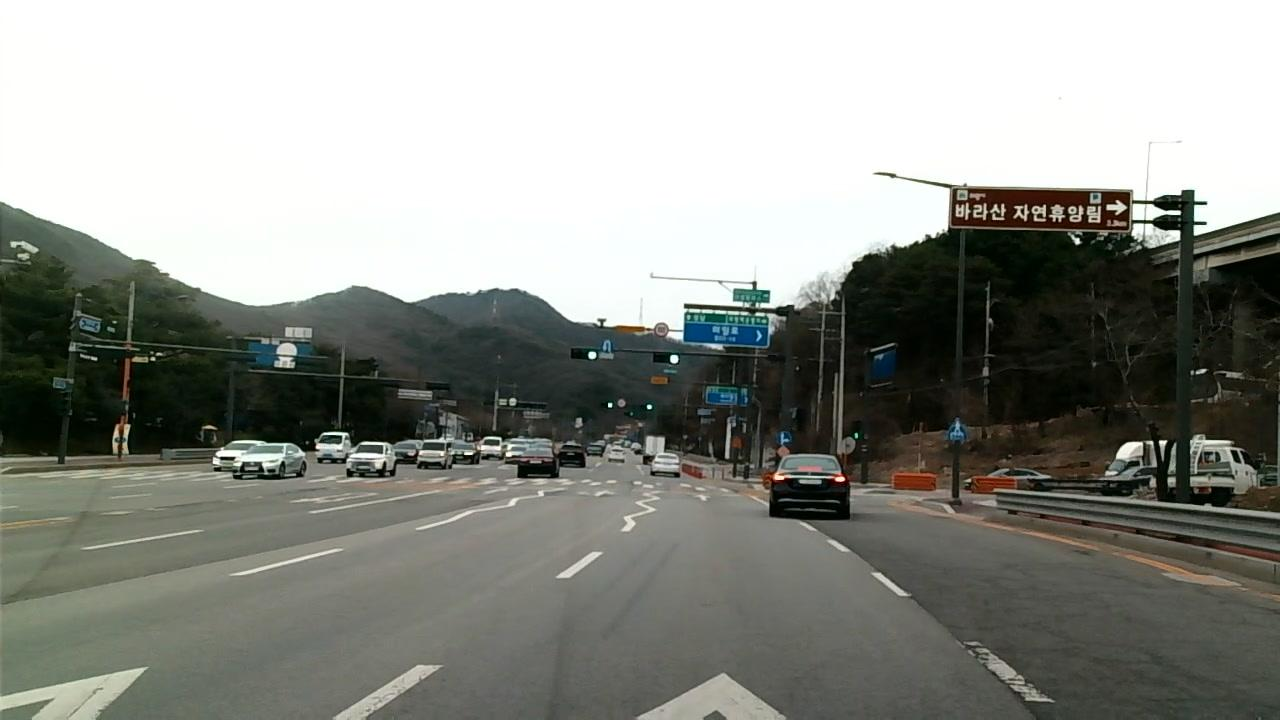erosion: (934, 567, 1280, 720)
pothole: (1069, 543, 1097, 558)
